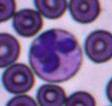N: (28, 28, 82, 82)
